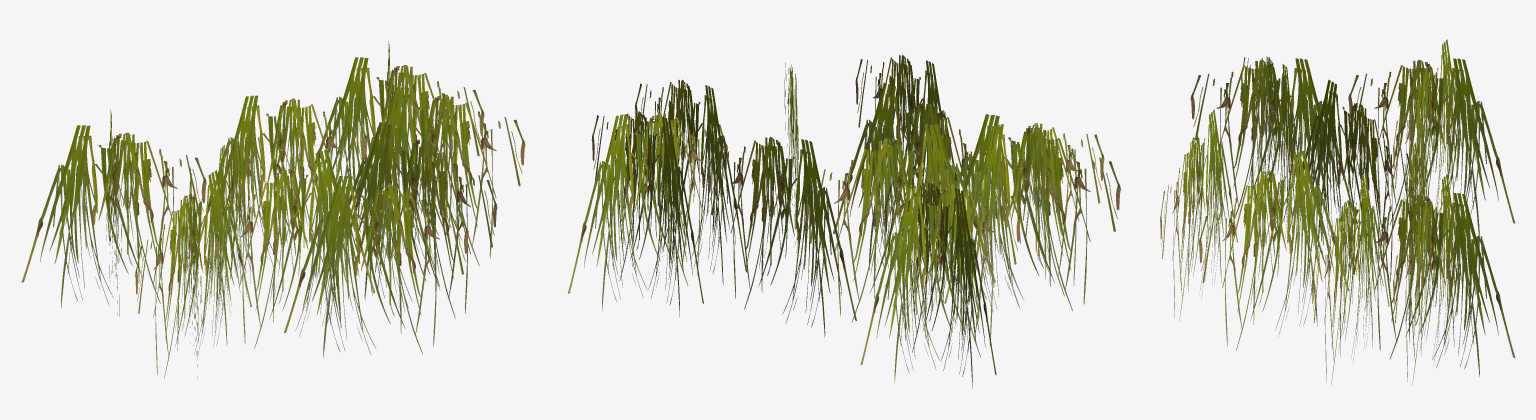
File: grassPatch.fbx
3 renders of one model, left to right at view 1: azimuth 30°, elevation 25°; view 2: azimuth 150°, elevation 25°; view 3: azimuth 270°, elevation 25°, orthographic. The views are drawn at different scales.
Parts seen in each view (by area): view 1: polySurface1; view 2: polySurface1; view 3: polySurface1.
Boxes of the visible parts, <box> form: polySurface1: <box>21,41,525,378</box>; polySurface1: <box>568,55,1120,388</box>; polySurface1: <box>1160,39,1515,385</box>.
Size of the model in its own units: 0.0756 by 0.03 by 0.0551.
Materials: 1 (1 with a texture image).
